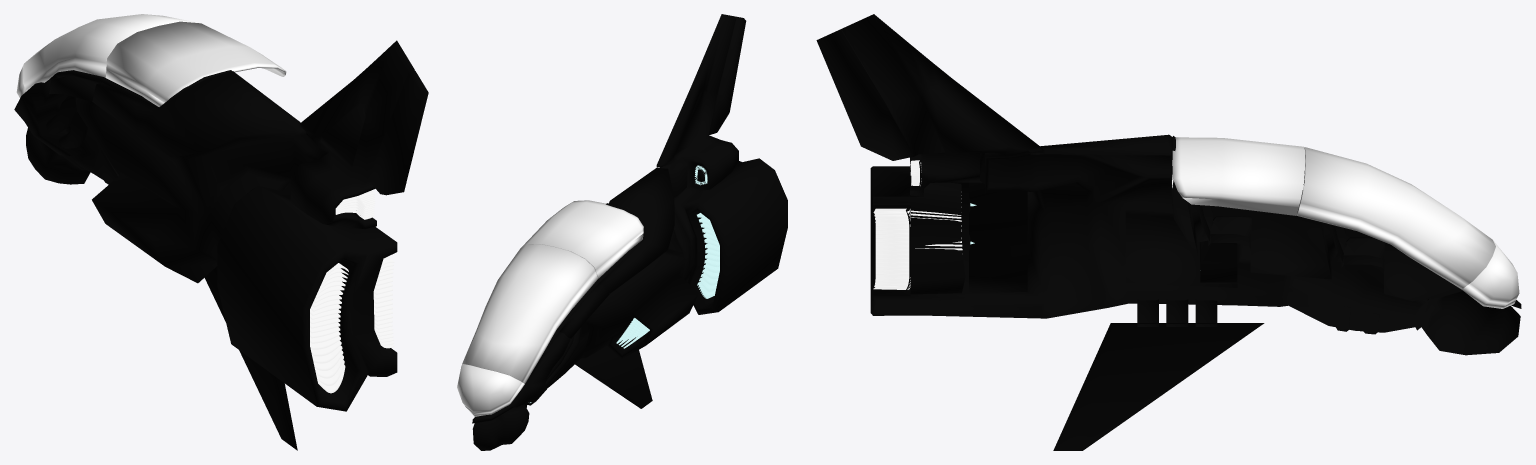
File: E 45 Aircraft Cycles Render and High-Poly.gltf
The picture shows the model from 3 angles, left to right: view 1: azimuth 30°, elevation 25°; view 2: azimuth 150°, elevation 25°; view 3: azimuth 270°, elevation 25°; orthographic projection. The views are drawn at different scales.
Visible parts, largest first — view 1: Cube.001, Cube.000, Cube.002; view 2: Cube.001, Cube.000, Cube.002; view 3: Cube.001, Cube.000, Cube.002.
Part boxes in pixels (box(x1,y1,x2,y2)): Cube.001: box(14, 40, 428, 450); Cube.000: box(16, 14, 286, 106); Cube.002: box(310, 190, 394, 393); Cube.001: box(472, 14, 787, 450); Cube.000: box(457, 200, 643, 416); Cube.002: box(530, 165, 719, 402); Cube.001: box(816, 14, 1521, 450); Cube.000: box(1172, 137, 1519, 308); Cube.002: box(873, 160, 1200, 291).
Size of what is drawn, in the model's own units: 1.54 by 4.21 by 6.16.
